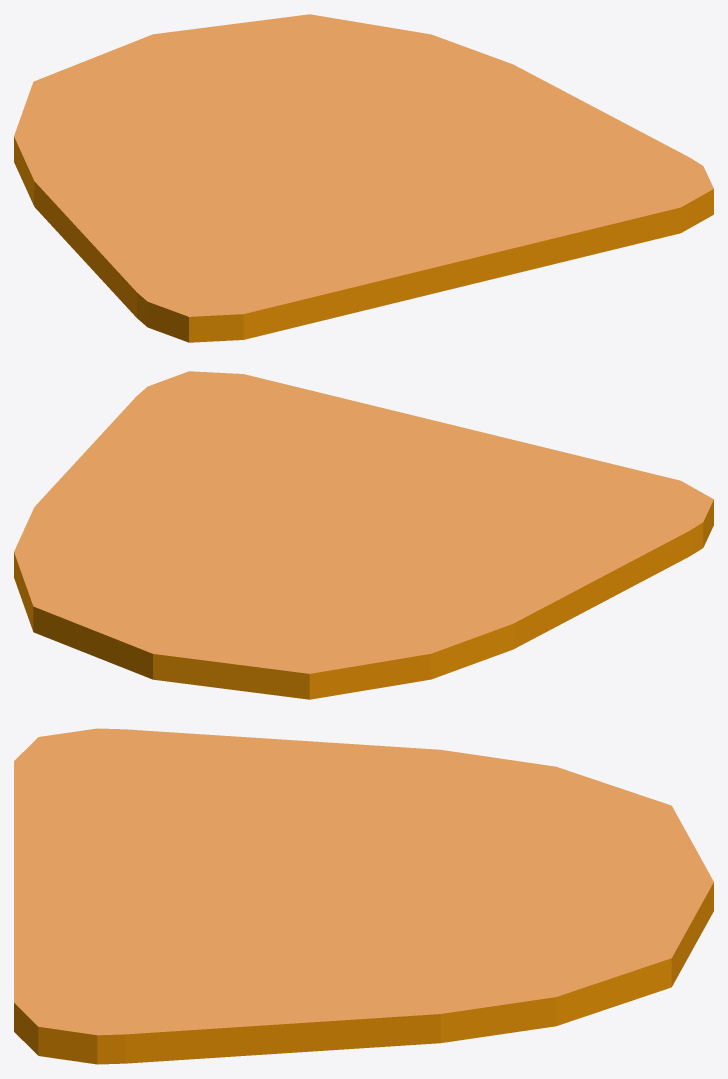
Rendered from BreadSlice_01.fbx.
The picture shows the model from 3 angles, top to bottom: view 1: azimuth 30°, elevation 25°; view 2: azimuth 150°, elevation 25°; view 3: azimuth 270°, elevation 25°; orthographic projection. The views are drawn at different scales.
Parts seen in each view (by area): view 1: BreadSlice_01; view 2: BreadSlice_01; view 3: BreadSlice_01.
Part boxes in pixels (<box>): BreadSlice_01: <box>14,14,713,342</box>; BreadSlice_01: <box>14,371,713,699</box>; BreadSlice_01: <box>14,728,713,1064</box>.
Size of the model in its own units: 11.33 by 0.5029 by 10.92.
